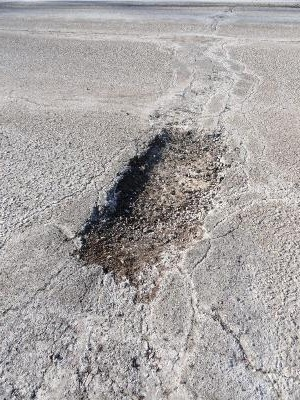pothole: (70, 121, 235, 299)
